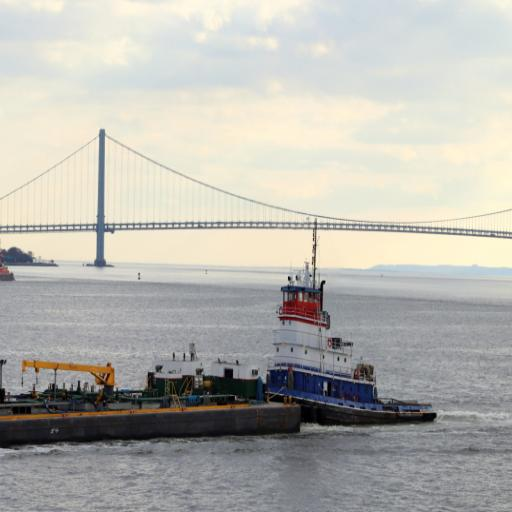tugboat: (251, 263, 444, 436)
